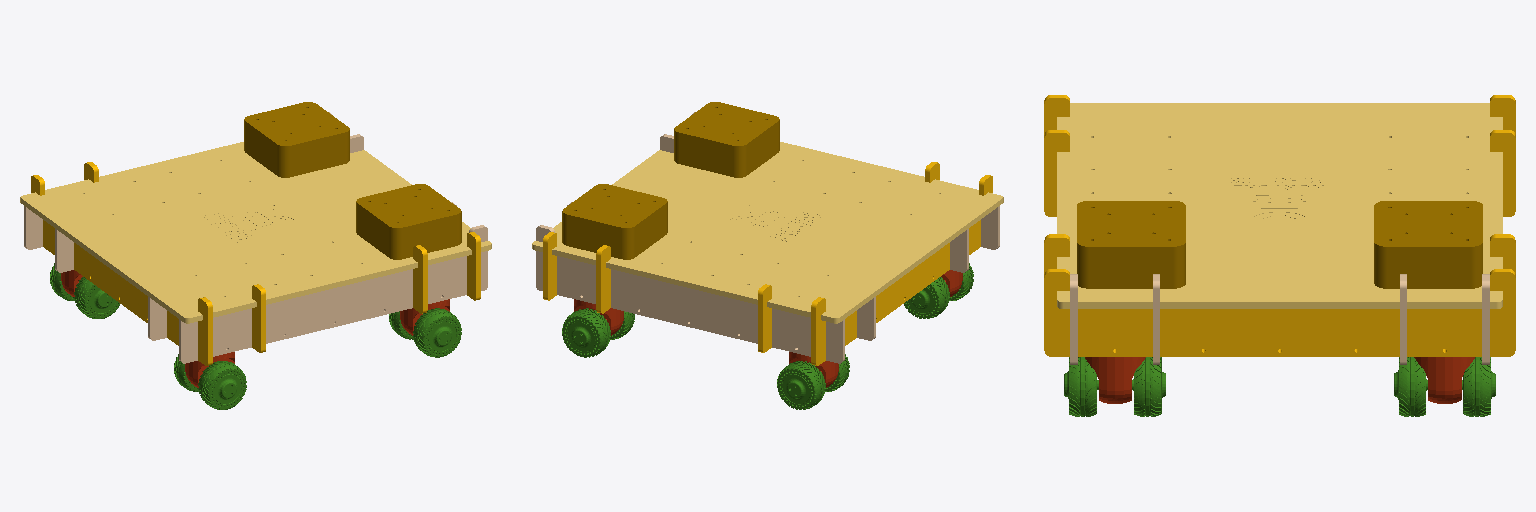
--- Render facts (derived) ---
Views: 3 orthographic renders of the robot side by side, from view 1: azimuth 30°, elevation 25°; view 2: azimuth 150°, elevation 25°; view 3: azimuth 270°, elevation 25°.
Model robot_description with 16 links and 15 joints (12 continuous, 3 fixed), rooted at baseplate, posed all joints at 0.
Visible links, largest first — view 1: baseplate, ddsm115_8, ddsm115_6, ddsm115_4; view 2: baseplate, ddsm115, ddsm115_3, ddsm115_5, drivemount; view 3: baseplate, drivemount, drivemount_4, ddsm115_8, ddsm115_7, ddsm115, ddsm115_2.
Link boxes in pixels (x1,y1,x2,y2): baseplate: (20,102,491,365); ddsm115_8: (413,308,461,357); ddsm115_6: (198,361,246,409); ddsm115_4: (74,277,119,318); baseplate: (532,102,1003,365); ddsm115: (562,308,610,357); ddsm115_3: (777,361,825,409); ddsm115_5: (904,277,949,318); drivemount: (574,299,623,335); baseplate: (1044,95,1515,364); drivemount: (1414,357,1474,403); drivemount_4: (1085,357,1145,403); ddsm115_8: (1064,357,1098,416); ddsm115_7: (1132,357,1165,416); ddsm115: (1462,357,1495,416); ddsm115_2: (1394,357,1427,416).
Bounding box of the posed robot: 0.7333 × 0.7333 × 0.3154 m (x, y, z).
27 mesh visuals loaded from 7 distinct referenced files (7 binary STL).

URDF robot description (robot_description):
<?xml version="1.0" ?>
<!-- Generated using onshape-to-robot -->
<!-- Onshape https://cad.onshape.com/documents/72c389bd5de915c2fe8aa9fd/w/fd737701d5bacab5bf1c8668/e/a981894d1764dab0bd28ba7a -->
<robot name="robot_description">
  <!-- Link baseplate -->
  <link name="baseplate">
    <inertial>
      <origin xyz="0.040532 0.000780382 -0.0258869" rpy="0 0 0"/>
      <mass value="14.9958"/>
      <inertia ixx="0.845009" ixy="-2.57157e-06" ixz="-0.0414975" iyy="0.831876" iyz="-1.79282e-06" izz="1.62041"/>
    </inertial>
    <!-- Part baseplate -->
    <visual>
      <origin xyz="-0.0144056 0.000787974 -0.012" rpy="0 -0 -1.5708"/>
      <geometry>
        <mesh filename="package://robot_description/assets/baseplate.stl"/>
      </geometry>
      <material name="baseplate_material">
        <color rgba="0.960784 0.835294 0.470588 1"/>
      </material>
    </visual>
    <collision>
      <origin xyz="-0.0144056 0.000787974 -0.012" rpy="0 -0 -1.5708"/>
      <geometry>
        <mesh filename="package://robot_description/assets/baseplate.stl"/>
      </geometry>
    </collision>
    <!-- Part spanelhor -->
    <visual>
      <origin xyz="-0.00440559 0.199163 -0.06195" rpy="0 -0 -1.5708"/>
      <geometry>
        <mesh filename="package://robot_description/assets/spanelhor.stl"/>
      </geometry>
      <material name="spanelhor_material">
        <color rgba="0.921569 0.8 0.654902 1"/>
      </material>
    </visual>
    <collision>
      <origin xyz="-0.00440559 0.199163 -0.06195" rpy="0 -0 -1.5708"/>
      <geometry>
        <mesh filename="package://robot_description/assets/spanelhor.stl"/>
      </geometry>
    </collision>
    <!-- Part armsupportblock -->
    <visual>
      <origin xyz="0.227219 0.232413 5.20417e-18" rpy="0 -0 3.14159"/>
      <geometry>
        <mesh filename="package://robot_description/assets/armsupportblock.stl"/>
      </geometry>
      <material name="armsupportblock_material">
        <color rgba="0.65098 0.486275 0.0196078 1"/>
      </material>
    </visual>
    <collision>
      <origin xyz="0.227219 0.232413 5.20417e-18" rpy="0 -0 3.14159"/>
      <geometry>
        <mesh filename="package://robot_description/assets/armsupportblock.stl"/>
      </geometry>
    </collision>
    <!-- Part spanelver -->
    <visual>
      <origin xyz="-0.319031 0.000737974 -0.062" rpy="0 -0 3.14159"/>
      <geometry>
        <mesh filename="package://robot_description/assets/spanelver.stl"/>
      </geometry>
      <material name="spanelver_material">
        <color rgba="1 0.756863 0.054902 1"/>
      </material>
    </visual>
    <collision>
      <origin xyz="-0.319031 0.000737974 -0.062" rpy="0 -0 3.14159"/>
      <geometry>
        <mesh filename="package://robot_description/assets/spanelver.stl"/>
      </geometry>
    </collision>
    <!-- Part steeringdrivesupport -->
    <visual>
      <origin xyz="0.251849 -0.255712 -0.088" rpy="1.32349e-23 5.29396e-23 3.14159"/>
      <geometry>
        <mesh filename="package://robot_description/assets/steeringdrivesupport.stl"/>
      </geometry>
      <material name="steeringdrivesupport_material">
        <color rgba="0.972549 0.529412 0.00392157 1"/>
      </material>
    </visual>
    <collision>
      <origin xyz="0.251849 -0.255712 -0.088" rpy="1.32349e-23 5.29396e-23 3.14159"/>
      <geometry>
        <mesh filename="package://robot_description/assets/steeringdrivesupport.stl"/>
      </geometry>
    </collision>
    <!-- Part spanelhor_2 -->
    <visual>
      <origin xyz="-0.00440559 -0.185587 -0.06195" rpy="0 -0 -1.5708"/>
      <geometry>
        <mesh filename="package://robot_description/assets/spanelhor.stl"/>
      </geometry>
      <material name="spanelhor_2_material">
        <color rgba="0.921569 0.8 0.654902 1"/>
      </material>
    </visual>
    <collision>
      <origin xyz="-0.00440559 -0.185587 -0.06195" rpy="0 -0 -1.5708"/>
      <geometry>
        <mesh filename="package://robot_description/assets/spanelhor.stl"/>
      </geometry>
    </collision>
    <!-- Part spanelver_2 -->
    <visual>
      <origin xyz="0.194219 0.000737974 -0.062" rpy="0 -0 3.14159"/>
      <geometry>
        <mesh filename="package://robot_description/assets/spanelver.stl"/>
      </geometry>
      <material name="spanelver_2_material">
        <color rgba="1 0.756863 0.054902 1"/>
      </material>
    </visual>
    <collision>
      <origin xyz="0.194219 0.000737974 -0.062" rpy="0 -0 3.14159"/>
      <geometry>
        <mesh filename="package://robot_description/assets/spanelver.stl"/>
      </geometry>
    </collision>
    <!-- Part armsupportblock_2 -->
    <visual>
      <origin xyz="0.227219 -0.230837 5.20417e-18" rpy="0 -0 3.14159"/>
      <geometry>
        <mesh filename="package://robot_description/assets/armsupportblock.stl"/>
      </geometry>
      <material name="armsupportblock_2_material">
        <color rgba="0.65098 0.486275 0.0196078 1"/>
      </material>
    </visual>
    <collision>
      <origin xyz="0.227219 -0.230837 5.20417e-18" rpy="0 -0 3.14159"/>
      <geometry>
        <mesh filename="package://robot_description/assets/armsupportblock.stl"/>
      </geometry>
    </collision>
    <!-- Part spanelver_3 -->
    <visual>
      <origin xyz="0.322219 0.000737974 -0.062" rpy="0 -0 3.14159"/>
      <geometry>
        <mesh filename="package://robot_description/assets/spanelver.stl"/>
      </geometry>
      <material name="spanelver_3_material">
        <color rgba="1 0.756863 0.054902 1"/>
      </material>
    </visual>
    <collision>
      <origin xyz="0.322219 0.000737974 -0.062" rpy="0 -0 3.14159"/>
      <geometry>
        <mesh filename="package://robot_description/assets/spanelver.stl"/>
      </geometry>
    </collision>
    <!-- Part steeringdrivesupport_2 -->
    <visual>
      <origin xyz="-0.261406 0.257288 -0.088" rpy="6.12323e-17 1.53458e-30 -1.5708"/>
      <geometry>
        <mesh filename="package://robot_description/assets/steeringdrivesupport.stl"/>
      </geometry>
      <material name="steeringdrivesupport_2_material">
        <color rgba="0.972549 0.529412 0.00392157 1"/>
      </material>
    </visual>
    <collision>
      <origin xyz="-0.261406 0.257288 -0.088" rpy="6.12323e-17 1.53458e-30 -1.5708"/>
      <geometry>
        <mesh filename="package://robot_description/assets/steeringdrivesupport.stl"/>
      </geometry>
    </collision>
    <!-- Part spanelver_4 -->
    <visual>
      <origin xyz="-0.191031 0.000737974 -0.062" rpy="-2.46519e-31 -7.64964e-32 3.14159"/>
      <geometry>
        <mesh filename="package://robot_description/assets/spanelver.stl"/>
      </geometry>
      <material name="spanelver_4_material">
        <color rgba="1 0.756863 0.054902 1"/>
      </material>
    </visual>
    <collision>
      <origin xyz="-0.191031 0.000737974 -0.062" rpy="-2.46519e-31 -7.64964e-32 3.14159"/>
      <geometry>
        <mesh filename="package://robot_description/assets/spanelver.stl"/>
      </geometry>
    </collision>
    <!-- Part steeringdrivesupport_3 -->
    <visual>
      <origin xyz="-0.261401 -0.255712 -0.088" rpy="0 3.65492e-33 3.14159"/>
      <geometry>
        <mesh filename="package://robot_description/assets/steeringdrivesupport.stl"/>
      </geometry>
      <material name="steeringdrivesupport_3_material">
        <color rgba="0.972549 0.529412 0.00392157 1"/>
      </material>
    </visual>
    <collision>
      <origin xyz="-0.261401 -0.255712 -0.088" rpy="0 3.65492e-33 3.14159"/>
      <geometry>
        <mesh filename="package://robot_description/assets/steeringdrivesupport.stl"/>
      </geometry>
    </collision>
    <!-- Part steeringdrivesupport_4 -->
    <visual>
      <origin xyz="0.251844 0.257288 -0.088" rpy="6.12323e-17 -6.61241e-37 -1.5708"/>
      <geometry>
        <mesh filename="package://robot_description/assets/steeringdrivesupport.stl"/>
      </geometry>
      <material name="steeringdrivesupport_4_material">
        <color rgba="0.972549 0.529412 0.00392157 1"/>
      </material>
    </visual>
    <collision>
      <origin xyz="0.251844 0.257288 -0.088" rpy="6.12323e-17 -6.61241e-37 -1.5708"/>
      <geometry>
        <mesh filename="package://robot_description/assets/steeringdrivesupport.stl"/>
      </geometry>
    </collision>
    <!-- Part spanelhor_3 -->
    <visual>
      <origin xyz="-0.00440559 0.327413 -0.06195" rpy="0 -0 -1.5708"/>
      <geometry>
        <mesh filename="package://robot_description/assets/spanelhor.stl"/>
      </geometry>
      <material name="spanelhor_3_material">
        <color rgba="0.921569 0.8 0.654902 1"/>
      </material>
    </visual>
    <collision>
      <origin xyz="-0.00440559 0.327413 -0.06195" rpy="0 -0 -1.5708"/>
      <geometry>
        <mesh filename="package://robot_description/assets/spanelhor.stl"/>
      </geometry>
    </collision>
    <!-- Part spanelhor_4 -->
    <visual>
      <origin xyz="-0.00440559 -0.313837 -0.06195" rpy="0 -0 -1.5708"/>
      <geometry>
        <mesh filename="package://robot_description/assets/spanelhor.stl"/>
      </geometry>
      <material name="spanelhor_4_material">
        <color rgba="0.921569 0.8 0.654902 1"/>
      </material>
    </visual>
    <collision>
      <origin xyz="-0.00440559 -0.313837 -0.06195" rpy="0 -0 -1.5708"/>
      <geometry>
        <mesh filename="package://robot_description/assets/spanelhor.stl"/>
      </geometry>
    </collision>
  </link>
  <!-- Frame PiperRightArmMount (dummy link + fixed joint) -->
  <link name="PiperRightArmMount">
    <origin xyz="0 0 0" rpy="0 -0 0"/>
    <inertial>
      <origin xyz="0 0 0" rpy="0 0 0"/>
      <mass value="1e-9"/>
      <inertia ixx="0" ixy="0" ixz="0" iyy="0" iyz="0" izz="0"/>
    </inertial>
  </link>
  <joint name="PiperRightArmMount_frame" type="fixed">
    <origin xyz="0.227219 -0.230837 0.072" rpy="0 -0 -5.81757e-14"/>
    <parent link="baseplate"/>
    <child link="PiperRightArmMount"/>
    <axis xyz="0 0 0"/>
  </joint>
  <!-- Frame PiperLeftArmMount (dummy link + fixed joint) -->
  <link name="PiperLeftArmMount">
    <origin xyz="0 0 0" rpy="0 -0 0"/>
    <inertial>
      <origin xyz="0 0 0" rpy="0 0 0"/>
      <mass value="1e-9"/>
      <inertia ixx="0" ixy="0" ixz="0" iyy="0" iyz="0" izz="0"/>
    </inertial>
  </link>
  <joint name="PiperLeftArmMount_frame" type="fixed">
    <origin xyz="0.227219 0.232413 0.072" rpy="0 -0 -5.81757e-14"/>
    <parent link="baseplate"/>
    <child link="PiperLeftArmMount"/>
    <axis xyz="0 0 0"/>
  </joint>
  <!-- Frame base_link (dummy link + fixed joint) -->
  <link name="base_link">
    <origin xyz="0 0 0" rpy="0 -0 0"/>
    <inertial>
      <origin xyz="0 0 0" rpy="0 0 0"/>
      <mass value="1e-9"/>
      <inertia ixx="0" ixy="0" ixz="0" iyy="0" iyz="0" izz="0"/>
    </inertial>
  </link>
  <joint name="base_link_frame" type="fixed">
    <origin xyz="0 0 0" rpy="0 -0 0"/>
    <parent link="baseplate"/>
    <child link="base_link"/>
    <axis xyz="0 0 0"/>
  </joint>
  <!-- Link drivemount -->
  <link name="drivemount">
    <inertial>
      <origin xyz="-2.36788e-08 -7.9659e-08 0.0549101" rpy="0 0 0"/>
      <mass value="0.75055"/>
      <inertia ixx="0.00127707" ixy="7.23125e-10" ixz="7.07922e-10" iyy="0.00149132" iyz="-7.53142e-11" izz="0.00089429"/>
    </inertial>
    <!-- Part drivemount -->
    <visual>
      <origin xyz="0 2.09758e-25 -0.004" rpy="-3.14159 -6.12323e-17 1.5708"/>
      <geometry>
        <mesh filename="package://robot_description/assets/drivemount.stl"/>
      </geometry>
      <material name="drivemount_material">
        <color rgba="0.729412 0.25098 0.105882 1"/>
      </material>
    </visual>
    <collision>
      <origin xyz="0 2.09758e-25 -0.004" rpy="-3.14159 -6.12323e-17 1.5708"/>
      <geometry>
        <mesh filename="package://robot_description/assets/drivemount.stl"/>
      </geometry>
    </collision>
  </link>
  <!-- Link ddsm115 -->
  <link name="ddsm115">
    <inertial>
      <origin xyz="-5.68903e-09 -1.84532e-06 -0.0370814" rpy="0 0 0"/>
      <mass value="0.828591"/>
      <inertia ixx="0.000603382" ixy="1.80287e-09" ixz="1.92633e-10" iyy="0.000603401" iyz="5.27591e-08" izz="0.000943594"/>
    </inertial>
    <!-- Part ddsm115 -->
    <visual>
      <origin xyz="0 0 -0.01" rpy="1.5708 -3.01588e-33 3.69779e-32"/>
      <geometry>
        <mesh filename="package://robot_description/assets/ddsm115.stl"/>
      </geometry>
      <material name="ddsm115_material">
        <color rgba="0.282353 0.54902 0.160784 1"/>
      </material>
    </visual>
    <collision>
      <origin xyz="0 0 -0.01" rpy="1.5708 -3.01588e-33 3.69779e-32"/>
      <geometry>
        <mesh filename="package://robot_description/assets/ddsm115.stl"/>
      </geometry>
    </collision>
  </link>
  <!-- Joint from drivemount to ddsm115 -->
  <joint name="FLDL" type="continuous">
    <origin xyz="0 -0.014 0.106" rpy="-1.5708 6.12323e-17 3.7494e-33"/>
    <parent link="drivemount"/>
    <child link="ddsm115"/>
    <axis xyz="0 0 1"/>
    <limit effort="10" velocity="10" lower="-3.141592653589793" upper="3.141592653589793"/>
  </joint>
  <!-- Link ddsm115_2 -->
  <link name="ddsm115_2">
    <inertial>
      <origin xyz="-5.68903e-09 -1.84532e-06 -0.0370814" rpy="0 0 0"/>
      <mass value="0.828591"/>
      <inertia ixx="0.000603382" ixy="1.80287e-09" ixz="1.92633e-10" iyy="0.000603401" iyz="5.27591e-08" izz="0.000943594"/>
    </inertial>
    <!-- Part ddsm115_2 -->
    <visual>
      <origin xyz="0 0 -0.01" rpy="1.5708 -5.22453e-33 -6.16298e-32"/>
      <geometry>
        <mesh filename="package://robot_description/assets/ddsm115.stl"/>
      </geometry>
      <material name="ddsm115_2_material">
        <color rgba="0.282353 0.54902 0.160784 1"/>
      </material>
    </visual>
    <collision>
      <origin xyz="0 0 -0.01" rpy="1.5708 -5.22453e-33 -6.16298e-32"/>
      <geometry>
        <mesh filename="package://robot_description/assets/ddsm115.stl"/>
      </geometry>
    </collision>
  </link>
  <!-- Joint from drivemount to ddsm115_2 -->
  <joint name="FLDR" type="continuous">
    <origin xyz="0 0.014 0.106" rpy="-1.5708 -6.12323e-17 -3.14159"/>
    <parent link="drivemount"/>
    <child link="ddsm115_2"/>
    <axis xyz="0 0 1"/>
    <limit effort="10" velocity="10" lower="-3.141592653589793" upper="3.141592653589793"/>
  </joint>
  <!-- Joint from baseplate to drivemount -->
  <joint name="FLSteer" type="continuous">
    <origin xyz="0.251844 0.257288 -0.087" rpy="3.14159 6.16298e-32 8.32888e-25"/>
    <parent link="baseplate"/>
    <child link="drivemount"/>
    <axis xyz="0 0 1"/>
    <limit effort="10" velocity="10" lower="-3.141592653589793" upper="3.141592653589793"/>
  </joint>
  <!-- Link drivemount_2 -->
  <link name="drivemount_2">
    <inertial>
      <origin xyz="-2.36788e-08 -7.9659e-08 0.0549101" rpy="0 0 0"/>
      <mass value="0.75055"/>
      <inertia ixx="0.00127707" ixy="7.23125e-10" ixz="7.07922e-10" iyy="0.00149132" iyz="-7.53142e-11" izz="0.00089429"/>
    </inertial>
    <!-- Part drivemount_2 -->
    <visual>
      <origin xyz="-5.55112e-17 1.47124e-17 -0.004" rpy="-3.14159 -6.12323e-17 1.5708"/>
      <geometry>
        <mesh filename="package://robot_description/assets/drivemount.stl"/>
      </geometry>
      <material name="drivemount_2_material">
        <color rgba="0.729412 0.25098 0.105882 1"/>
      </material>
    </visual>
    <collision>
      <origin xyz="-5.55112e-17 1.47124e-17 -0.004" rpy="-3.14159 -6.12323e-17 1.5708"/>
      <geometry>
        <mesh filename="package://robot_description/assets/drivemount.stl"/>
      </geometry>
    </collision>
  </link>
  <!-- Link ddsm115_3 -->
  <link name="ddsm115_3">
    <inertial>
      <origin xyz="-5.68903e-09 -1.84532e-06 -0.0370814" rpy="0 0 0"/>
      <mass value="0.828591"/>
      <inertia ixx="0.000603382" ixy="1.80287e-09" ixz="1.92633e-10" iyy="0.000603401" iyz="5.27591e-08" izz="0.000943594"/>
    </inertial>
    <!-- Part ddsm115_3 -->
    <visual>
      <origin xyz="-5.55112e-17 0 -0.01" rpy="1.5708 -2.17095e-27 1.2326e-32"/>
      <geometry>
        <mesh filename="package://robot_description/assets/ddsm115.stl"/>
      </geometry>
      <material name="ddsm115_3_material">
        <color rgba="0.282353 0.54902 0.160784 1"/>
      </material>
    </visual>
    <collision>
      <origin xyz="-5.55112e-17 0 -0.01" rpy="1.5708 -2.17095e-27 1.2326e-32"/>
      <geometry>
        <mesh filename="package://robot_description/assets/ddsm115.stl"/>
      </geometry>
    </collision>
  </link>
  <!-- Joint from drivemount_2 to ddsm115_3 -->
  <joint name="BLDL" type="continuous">
    <origin xyz="0 -0.014 0.106" rpy="-1.5708 6.12323e-17 0"/>
    <parent link="drivemount_2"/>
    <child link="ddsm115_3"/>
    <axis xyz="0 0 1"/>
    <limit effort="10" velocity="10" lower="-3.141592653589793" upper="3.141592653589793"/>
  </joint>
  <!-- Link ddsm115_4 -->
  <link name="ddsm115_4">
    <inertial>
      <origin xyz="-5.68903e-09 -1.84532e-06 -0.0370814" rpy="0 0 0"/>
      <mass value="0.828591"/>
      <inertia ixx="0.000603382" ixy="1.80287e-09" ixz="1.92633e-10" iyy="0.000603401" iyz="5.27591e-08" izz="0.000943594"/>
    </inertial>
    <!-- Part ddsm115_4 -->
    <visual>
      <origin xyz="0 -1.11022e-16 -0.01" rpy="1.5708 -2.16463e-27 6.92879e-32"/>
      <geometry>
        <mesh filename="package://robot_description/assets/ddsm115.stl"/>
      </geometry>
      <material name="ddsm115_4_material">
        <color rgba="0.282353 0.54902 0.160784 1"/>
      </material>
    </visual>
    <collision>
      <origin xyz="0 -1.11022e-16 -0.01" rpy="1.5708 -2.16463e-27 6.92879e-32"/>
      <geometry>
        <mesh filename="package://robot_description/assets/ddsm115.stl"/>
      </geometry>
    </collision>
  </link>
  <!-- Joint from drivemount_2 to ddsm115_4 -->
  <joint name="BLDR" type="continuous">
    <origin xyz="0 0.014 0.106" rpy="-1.5708 -6.12323e-17 3.14159"/>
    <parent link="drivemount_2"/>
    <child link="ddsm115_4"/>
    <axis xyz="0 0 1"/>
    <limit effort="10" velocity="10" lower="-3.141592653589793" upper="3.141592653589793"/>
  </joint>
  <!-- Joint from baseplate to drivemount_2 -->
  <joint name="BLSteer" type="continuous">
    <origin xyz="-0.261406 0.257288 -0.087" rpy="-3.14159 -3.69779e-32 -4.996e-14"/>
    <parent link="baseplate"/>
    <child link="drivemount_2"/>
    <axis xyz="0 0 1"/>
    <limit effort="10" velocity="10" lower="-3.141592653589793" upper="3.141592653589793"/>
  </joint>
  <!-- Link drivemount_3 -->
  <link name="drivemount_3">
    <inertial>
      <origin xyz="-2.36788e-08 -7.9659e-08 0.0549101" rpy="0 0 0"/>
      <mass value="0.75055"/>
      <inertia ixx="0.00127707" ixy="7.23125e-10" ixz="7.07922e-10" iyy="0.00149132" iyz="-7.53142e-11" izz="0.00089429"/>
    </inertial>
    <!-- Part drivemount_3 -->
    <visual>
      <origin xyz="0 -5.04734e-18 -0.004" rpy="3.14159 -4.03059e-30 1.5708"/>
      <geometry>
        <mesh filename="package://robot_description/assets/drivemount.stl"/>
      </geometry>
      <material name="drivemount_3_material">
        <color rgba="0.729412 0.25098 0.105882 1"/>
      </material>
    </visual>
    <collision>
      <origin xyz="0 -5.04734e-18 -0.004" rpy="3.14159 -4.03059e-30 1.5708"/>
      <geometry>
        <mesh filename="package://robot_description/assets/drivemount.stl"/>
      </geometry>
    </collision>
  </link>
  <!-- Link ddsm115_5 -->
  <link name="ddsm115_5">
    <inertial>
      <origin xyz="-5.68903e-09 -1.84532e-06 -0.0370814" rpy="0 0 0"/>
      <mass value="0.828591"/>
      <inertia ixx="0.000603382" ixy="1.80287e-09" ixz="1.92633e-10" iyy="0.000603401" iyz="5.27591e-08" izz="0.000943594"/>
    </inertial>
    <!-- Part ddsm115_5 -->
    <visual>
      <origin xyz="0 0 -0.01" rpy="1.5708 -3.05311e-16 6.93889e-18"/>
      <geometry>
        <mesh filename="package://robot_description/assets/ddsm115.stl"/>
      </geometry>
      <material name="ddsm115_5_material">
        <color rgba="0.282353 0.54902 0.160784 1"/>
      </material>
    </visual>
    <collision>
      <origin xyz="0 0 -0.01" rpy="1.5708 -3.05311e-16 6.93889e-18"/>
      <geometry>
        <mesh filename="package://robot_description/assets/ddsm115.stl"/>
      </geometry>
    </collision>
  </link>
  <!-- Joint from drivemount_3 to ddsm115_5 -->
  <joint name="BRDL" type="continuous">
    <origin xyz="-9.4369e-16 -0.014 0.106" rpy="-1.5708 -1.03356e-29 -6.72795e-14"/>
    <parent link="drivemount_3"/>
    <child link="ddsm115_5"/>
    <axis xyz="0 0 1"/>
    <limit effort="10" velocity="10" lower="-3.141592653589793" upper="3.141592653589793"/>
  </joint>
  <!-- Link ddsm115_6 -->
  <link name="ddsm115_6">
    <inertial>
      <origin xyz="-5.68903e-09 -1.84532e-06 -0.0370814" rpy="0 0 0"/>
      <mass value="0.828591"/>
      <inertia ixx="0.000603382" ixy="1.80287e-09" ixz="1.92633e-10" iyy="0.000603401" iyz="5.27591e-08" izz="0.000943594"/>
    </inertial>
    <!-- Part ddsm115_6 -->
    <visual>
      <origin xyz="-5.55112e-17 -1.11022e-16 -0.01" rpy="1.5708 1.80411e-16 -8.46545e-16"/>
      <geometry>
        <mesh filename="package://robot_description/assets/ddsm115.stl"/>
      </geometry>
      <material name="ddsm115_6_material">
        <color rgba="0.282353 0.54902 0.160784 1"/>
      </material>
    </visual>
    <collision>
      <origin xyz="-5.55112e-17 -1.11022e-16 -0.01" rpy="1.5708 1.80411e-16 -8.46545e-16"/>
      <geometry>
        <mesh filename="package://robot_description/assets/ddsm115.stl"/>
      </geometry>
    </collision>
  </link>
  <!-- Joint from drivemount_3 to ddsm115_6 -->
  <joint name="BRDR" type="continuous">
    <origin xyz="9.4369e-16 0.014 0.106" rpy="-1.5708 1.03356e-29 3.14159"/>
    <parent link="drivemount_3"/>
    <child link="ddsm115_6"/>
    <axis xyz="0 0 1"/>
    <limit effort="10" velocity="10" lower="-3.141592653589793" upper="3.141592653589793"/>
  </joint>
  <!-- Joint from baseplate to drivemount_3 -->
  <joint name="BRSteer" type="continuous">
    <origin xyz="-0.261401 -0.255712 -0.087" rpy="-3.14159 -3.65492e-33 -6.72795e-14"/>
    <parent link="baseplate"/>
    <child link="drivemount_3"/>
    <axis xyz="0 0 1"/>
    <limit effort="10" velocity="10" lower="-3.141592653589793" upper="3.141592653589793"/>
  </joint>
  <!-- Link drivemount_4 -->
  <link name="drivemount_4">
    <inertial>
      <origin xyz="2.36788e-08 7.9659e-08 0.0549101" rpy="0 0 0"/>
      <mass value="0.75055"/>
      <inertia ixx="0.00127707" ixy="7.23125e-10" ixz="-7.07922e-10" iyy="0.00149132" iyz="7.53142e-11" izz="0.00089429"/>
    </inertial>
    <!-- Part drivemount_4 -->
    <visual>
      <origin xyz="0 1.96017e-17 -0.004" rpy="-3.14159 6.12324e-17 -1.5708"/>
      <geometry>
        <mesh filename="package://robot_description/assets/drivemount.stl"/>
      </geometry>
      <material name="drivemount_4_material">
        <color rgba="0.729412 0.25098 0.105882 1"/>
      </material>
    </visual>
    <collision>
      <origin xyz="0 1.96017e-17 -0.004" rpy="-3.14159 6.12324e-17 -1.5708"/>
      <geometry>
        <mesh filename="package://robot_description/assets/drivemount.stl"/>
      </geometry>
    </collision>
  </link>
  <!-- Link ddsm115_7 -->
  <link name="ddsm115_7">
    <inertial>
      <origin xyz="-5.68903e-09 -1.84532e-06 -0.0370814" rpy="0 0 0"/>
      <mass value="0.828591"/>
      <inertia ixx="0.000603382" ixy="1.80287e-09" ixz="1.92633e-10" iyy="0.000603401" iyz="5.27591e-08" izz="0.000943594"/>
    </inertial>
    <!-- Part ddsm115_7 -->
    <visual>
      <origin xyz="0 0 -0.01" rpy="1.5708 -1.71025e-27 -5.51955e-31"/>
      <geometry>
        <mesh filename="package://robot_description/assets/ddsm115.stl"/>
      </geometry>
      <material name="ddsm115_7_material">
        <color rgba="0.282353 0.54902 0.160784 1"/>
      </material>
    </visual>
    <collision>
      <origin xyz="0 0 -0.01" rpy="1.5708 -1.71025e-27 -5.51955e-31"/>
      <geometry>
        <mesh filename="package://robot_description/assets/ddsm115.stl"/>
      </geometry>
    </collision>
  </link>
  <!-- Joint from drivemount_4 to ddsm115_7 -->
  <joint name="FRDL" type="continuous">
    <origin xyz="0 -0.014 0.106" rpy="-1.5708 -1.22465e-16 0"/>
    <parent link="drivemount_4"/>
    <child link="ddsm115_7"/>
    <axis xyz="0 0 1"/>
    <limit effort="10" velocity="10" lower="-3.141592653589793" upper="3.141592653589793"/>
  </joint>
  <!-- Link ddsm115_8 -->
  <link name="ddsm115_8">
    <inertial>
      <origin xyz="-5.68903e-09 -1.84532e-06 -0.0370814" rpy="0 0 0"/>
      <mass value="0.828591"/>
      <inertia ixx="0.000603382" ixy="1.80287e-09" ixz="1.92633e-10" iyy="0.000603401" iyz="5.27591e-08" izz="0.000943594"/>
    </inertial>
    <!-- Part ddsm115_8 -->
    <visual>
      <origin xyz="0 0 -0.01" rpy="1.5708 -1.72918e-27 7.93051e-31"/>
      <geometry>
        <mesh filename="package://robot_description/assets/ddsm115.stl"/>
      </geometry>
      <material name="ddsm115_8_material">
        <color rgba="0.282353 0.54902 0.160784 1"/>
      </material>
    </visual>
    <collision>
      <origin xyz="0 0 -0.01" rpy="1.5708 -1.72918e-27 7.93051e-31"/>
      <geometry>
        <mesh filename="package://robot_description/assets/ddsm115.stl"/>
      </geometry>
    </collision>
  </link>
  <!-- Joint from drivemount_4 to ddsm115_8 -->
  <joint name="FRDR" type="continuous">
    <origin xyz="5.55112e-17 0.014 0.106" rpy="-1.5708 1.22465e-16 3.14159"/>
    <parent link="drivemount_4"/>
    <child link="ddsm115_8"/>
    <axis xyz="0 0 1"/>
    <limit effort="10" velocity="10" lower="-3.141592653589793" upper="3.141592653589793"/>
  </joint>
  <!-- Joint from baseplate to drivemount_4 -->
  <joint name="FRSteer" type="continuous">
    <origin xyz="0.251849 -0.255712 -0.087" rpy="-3.14159 -5.29396e-23 -5.21805e-14"/>
    <parent link="baseplate"/>
    <child link="drivemount_4"/>
    <axis xyz="0 0 1"/>
    <limit effort="10" velocity="10" lower="-3.141592653589793" upper="3.141592653589793"/>
  </joint>
</robot>
